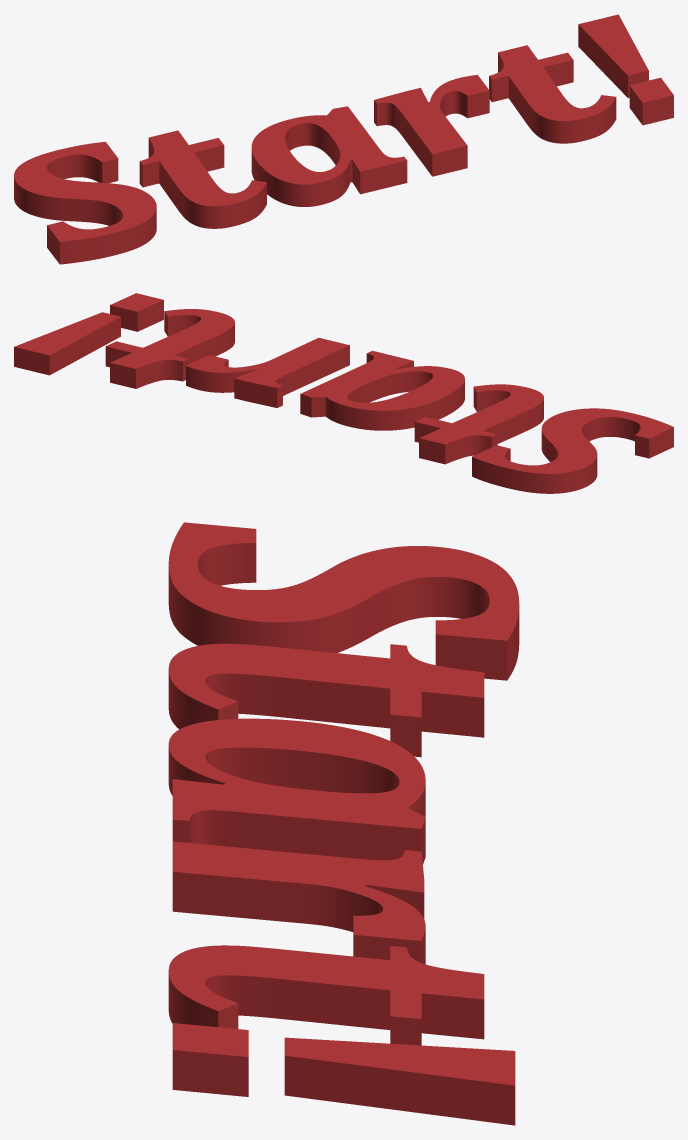
The model's file is start.fbx.
3 renders of one model, top to bottom at view 1: azimuth 30°, elevation 25°; view 2: azimuth 150°, elevation 25°; view 3: azimuth 270°, elevation 25°, orthographic. The views are drawn at different scales.
Parts seen in each view (by area): view 1: Text; view 2: Text; view 3: Text.
Part boxes in pixels (bbox=[...]): Text: bbox=[14, 14, 673, 264]; Text: bbox=[14, 293, 673, 493]; Text: bbox=[168, 522, 519, 1125].
Bounding box in the file's own units: 949 × 31.33 × 249.
